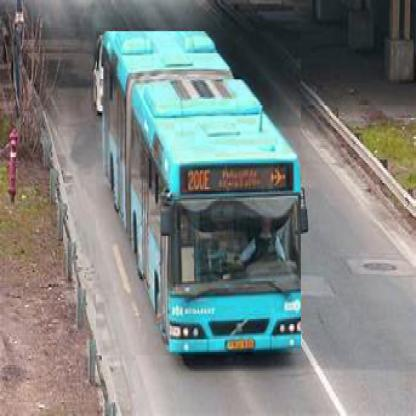bus: (97, 32, 303, 358)
